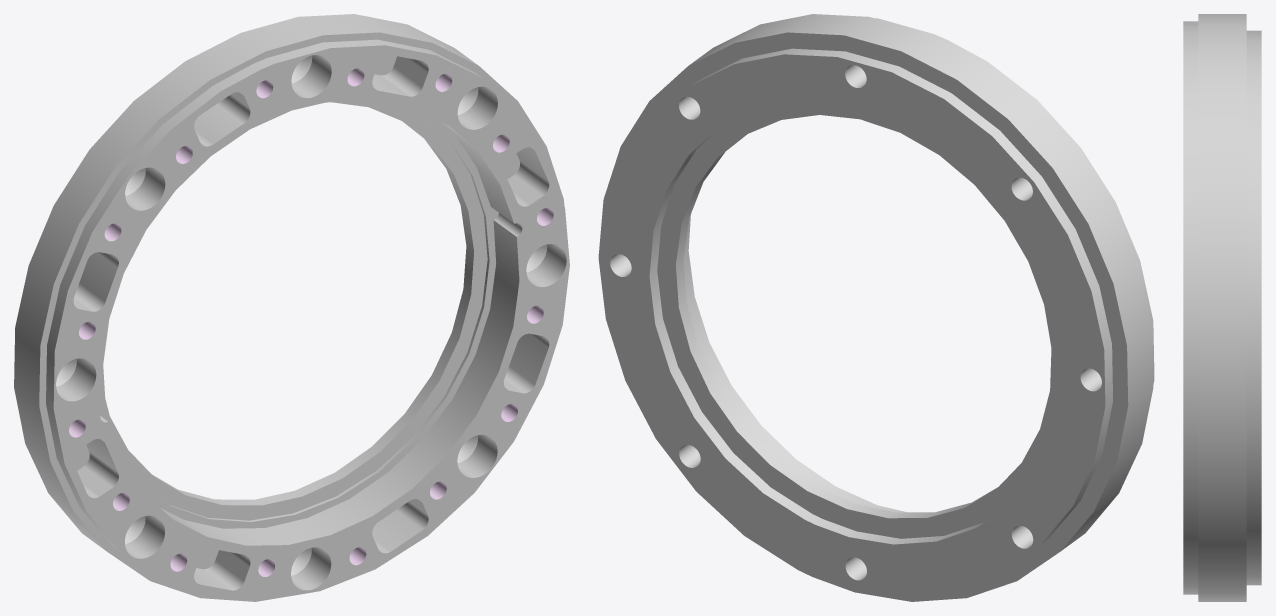
3 renders of one model, left to right at view 1: azimuth 30°, elevation 25°; view 2: azimuth 150°, elevation 25°; view 3: azimuth 270°, elevation 25°, orthographic. The views are drawn at different scales.
Parts seen in each view (by area): view 1: mesh1252, mesh1387, mesh1328, mesh1394, mesh1386, mesh1385, mesh1329, mesh1393, mesh1384, mesh1284, mesh1327, mesh1257 (+10 smaller); view 2: mesh1390, mesh1388, mesh1392, mesh1387, mesh1389, mesh1391, mesh1393, mesh1328, mesh1385; view 3: mesh1387, mesh1385, mesh1389.
Boxes of the visible parts, x1=… form: mesh1252: x1=53, y1=45, x2=569, y2=600; mesh1387: x1=14, y1=14, x2=478, y2=551; mesh1328: x1=160, y1=220, x2=519, y2=545; mesh1394: x1=100, y1=99, x2=487, y2=520; mesh1386: x1=39, y1=32, x2=564, y2=601; mesh1385: x1=46, y1=39, x2=481, y2=551; mesh1329: x1=135, y1=106, x2=498, y2=528; mesh1393: x1=153, y1=121, x2=473, y2=505; mesh1384: x1=170, y1=115, x2=489, y2=521; mesh1284: x1=509, y1=333, x2=548, y2=384; mesh1327: x1=440, y1=121, x2=513, y2=223; mesh1257: x1=372, y1=510, x2=422, y2=551; mesh1390: x1=606, y1=54, x2=1105, y2=591; mesh1388: x1=598, y1=32, x2=1128, y2=601; mesh1392: x1=657, y1=101, x2=1061, y2=538; mesh1387: x1=689, y1=14, x2=1153, y2=550; mesh1389: x1=691, y1=48, x2=1112, y2=543; mesh1391: x1=649, y1=126, x2=1008, y2=544; mesh1393: x1=676, y1=134, x2=997, y2=518; mesh1328: x1=683, y1=214, x2=906, y2=512; mesh1385: x1=874, y1=18, x2=1154, y2=384; mesh1387: x1=1198, y1=14, x2=1246, y2=601; mesh1385: x1=1183, y1=21, x2=1198, y2=594; mesh1389: x1=1246, y1=30, x2=1261, y2=585.
Size of the model in its own units: 0.0788 by 0.0789 by 0.0105.
